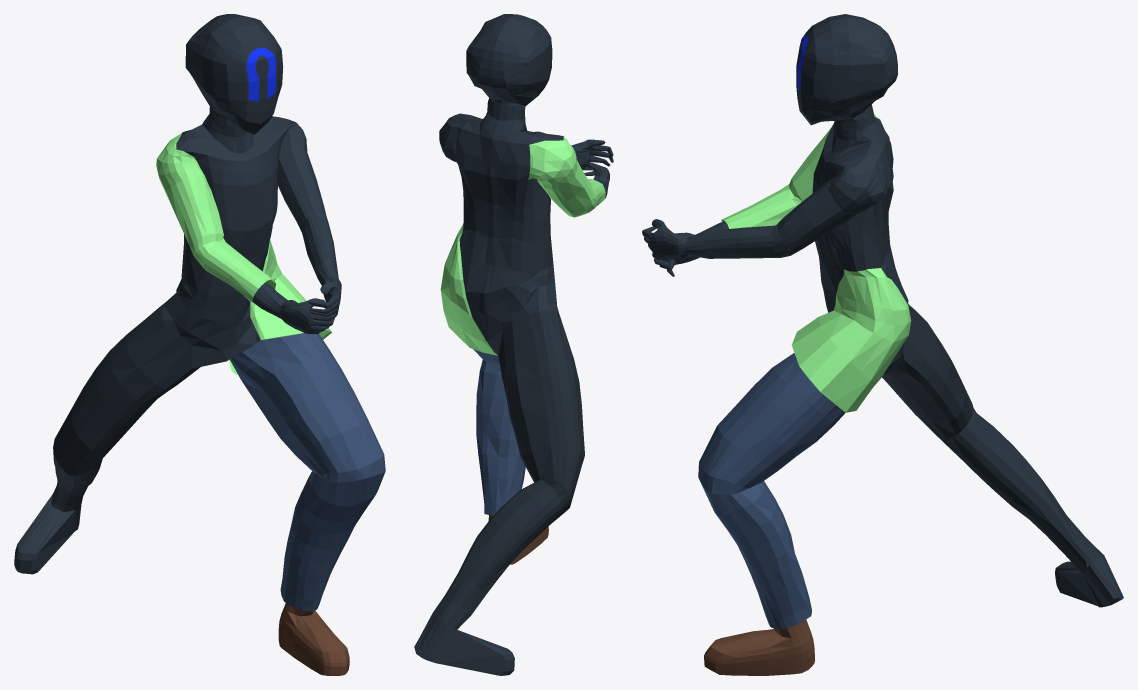
File: Mar_WB_000012.obj
The picture shows the model from 3 angles, left to right: view 1: azimuth 30°, elevation 25°; view 2: azimuth 150°, elevation 25°; view 3: azimuth 270°, elevation 25°; orthographic projection. The views are drawn at different scales.
Parts seen in each view (by area): view 1: Cube.000_Cube.001; view 2: Cube.000_Cube.001; view 3: Cube.000_Cube.001.
Boxes of the visible parts, x1=… form: Cube.000_Cube.001: x1=14, y1=14, x2=385, y2=675; Cube.000_Cube.001: x1=414, y1=14, x2=613, y2=675; Cube.000_Cube.001: x1=642, y1=14, x2=1123, y2=675.
Size of the model in its own units: 1.23 by 3.49 by 2.41.
